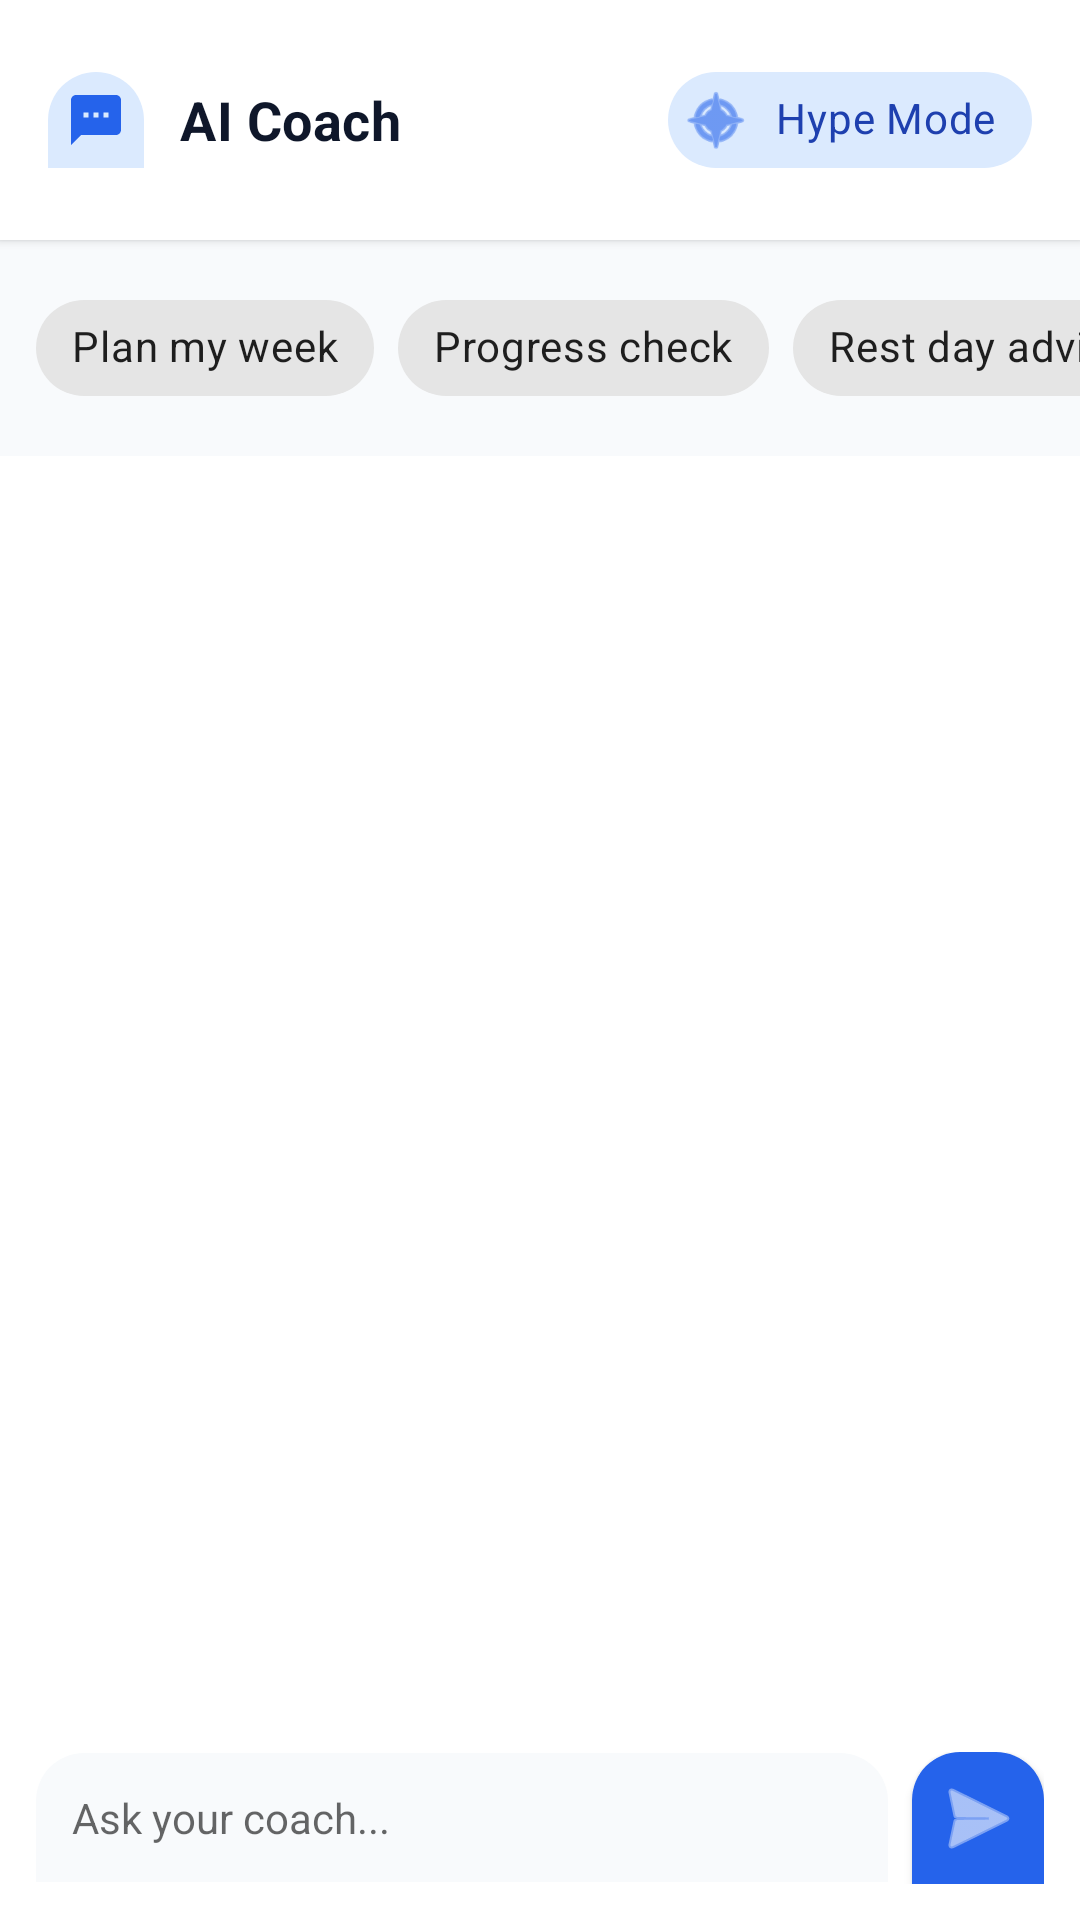

Locate icon controls on the screen. Image size 1080×1920, boxes as (left=x1, top=y1, right=x2, bottom=y2).
send: (left=912, top=1752, right=1044, bottom=1884)
